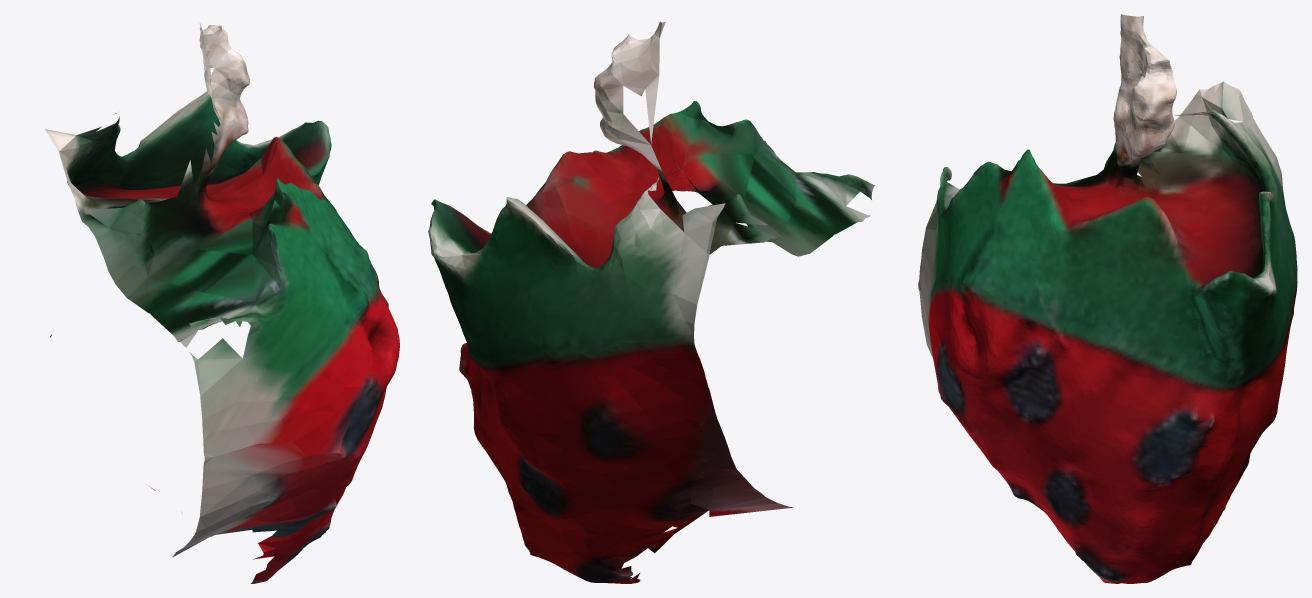
The model's file is strawb.glb.
The picture shows the model from 3 angles, left to right: view 1: azimuth 30°, elevation 25°; view 2: azimuth 150°, elevation 25°; view 3: azimuth 270°, elevation 25°; orthographic projection. The views are drawn at different scales.
Parts seen in each view (by area): view 1: mesh; view 2: mesh; view 3: mesh.
Boxes of the visible parts, <box> form: mesh: <box>45,23,399,583</box>; mesh: <box>428,21,875,583</box>; mesh: <box>918,14,1297,583</box>.
Bounding box in the file's own units: 0.0644 × 0.1229 × 0.0777.
1 material, 1 textured.
